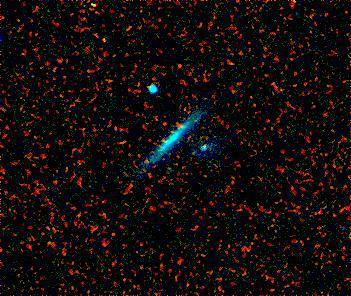star: (133, 165, 163, 195)
